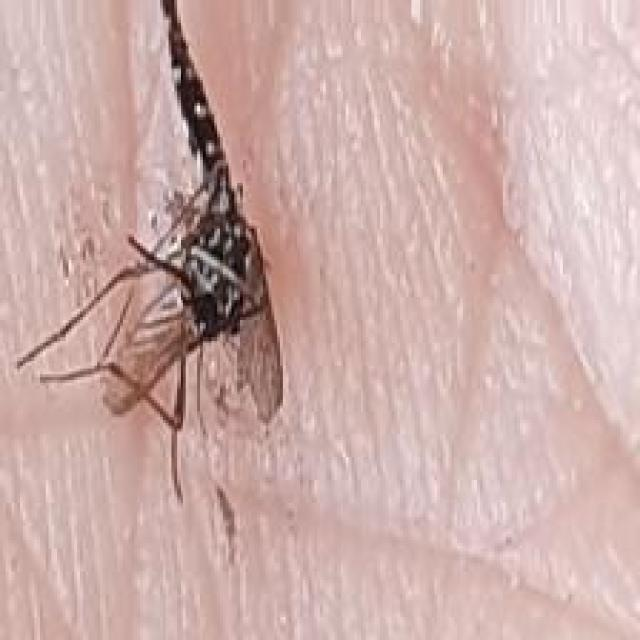Aedes albopictus: (14, 1, 286, 562)
